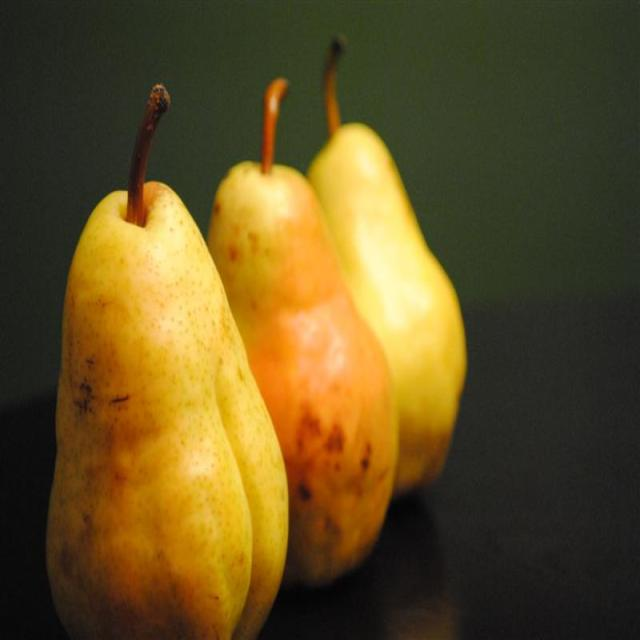paer: (26, 181, 288, 640), (229, 131, 408, 640)
